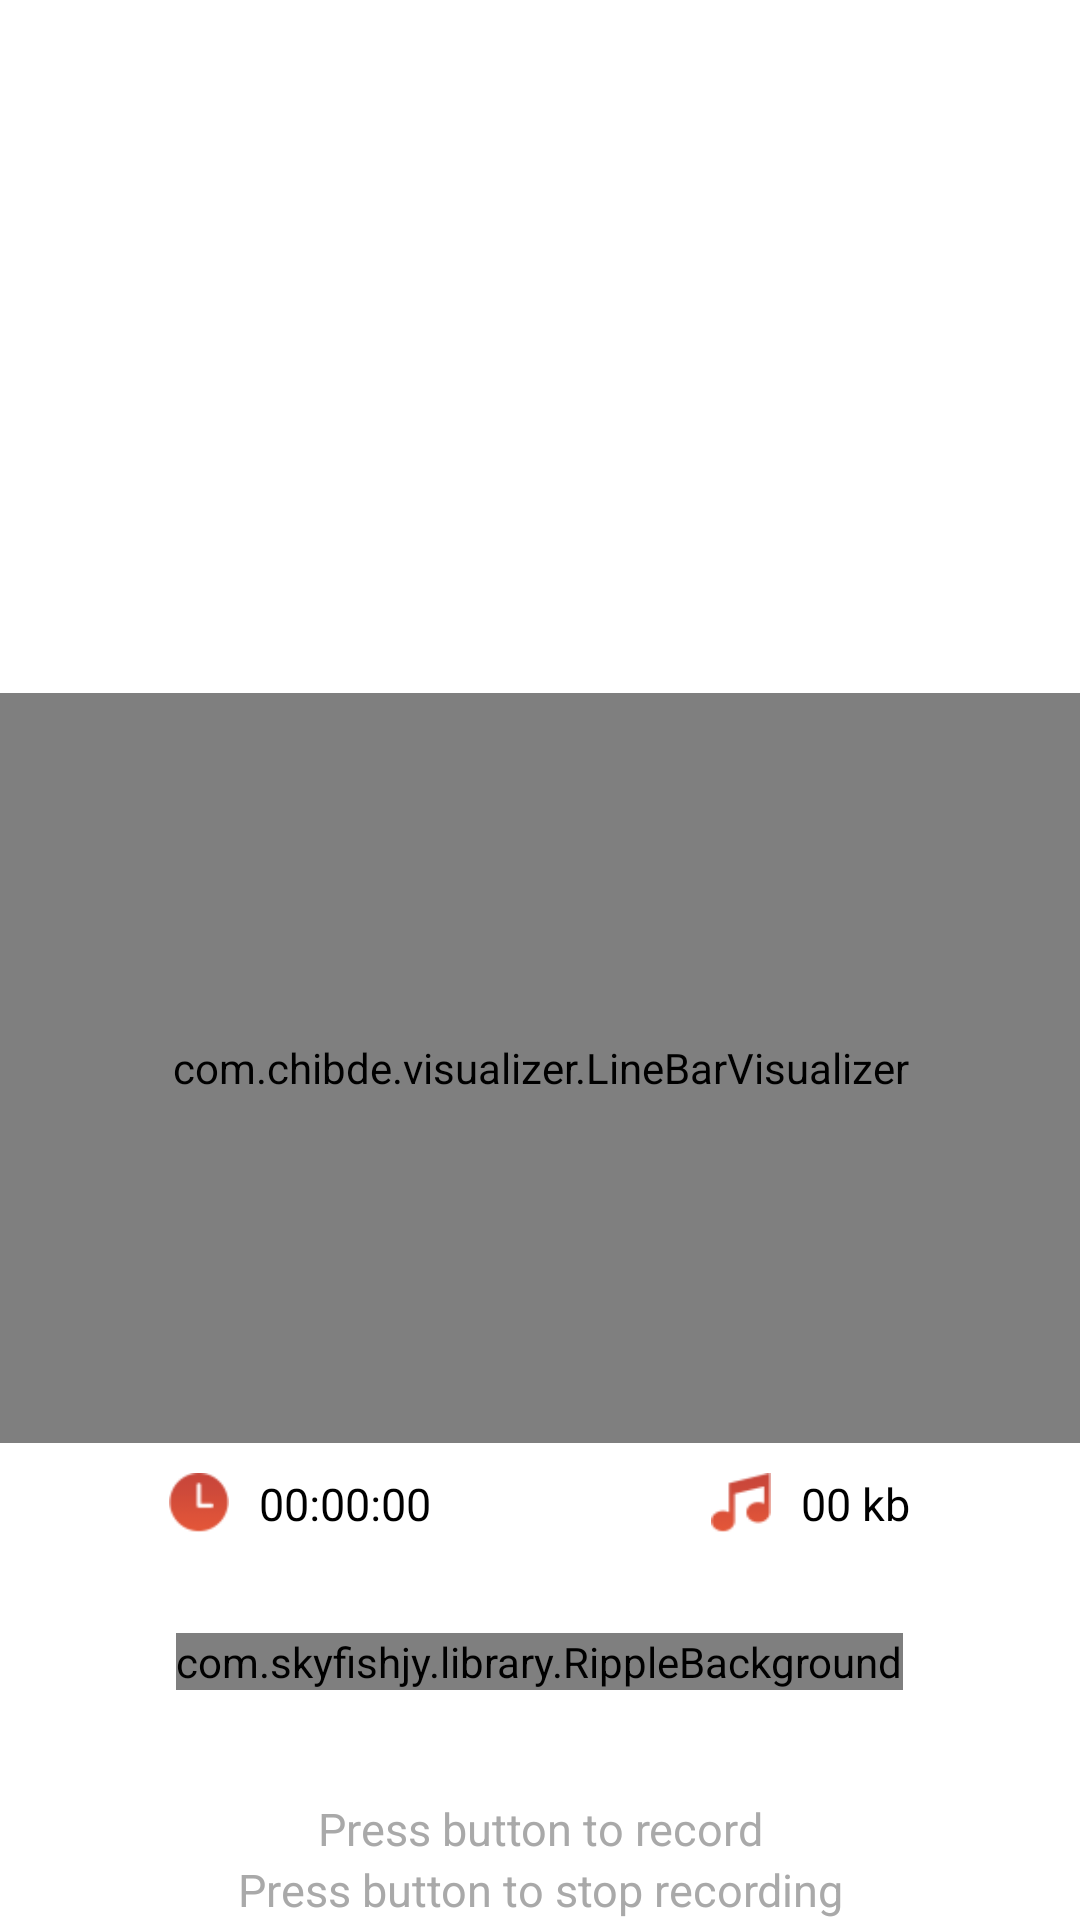

Screen size 1080*1920. Icon name, then its box in pixels as (x1, y1, x2, y2):
chromoter: (169, 1473, 229, 1532)
